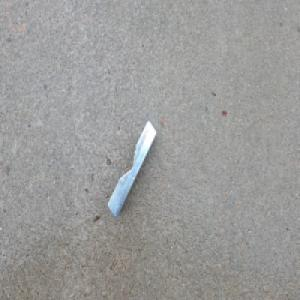ClampPart: (107, 119, 157, 218)
